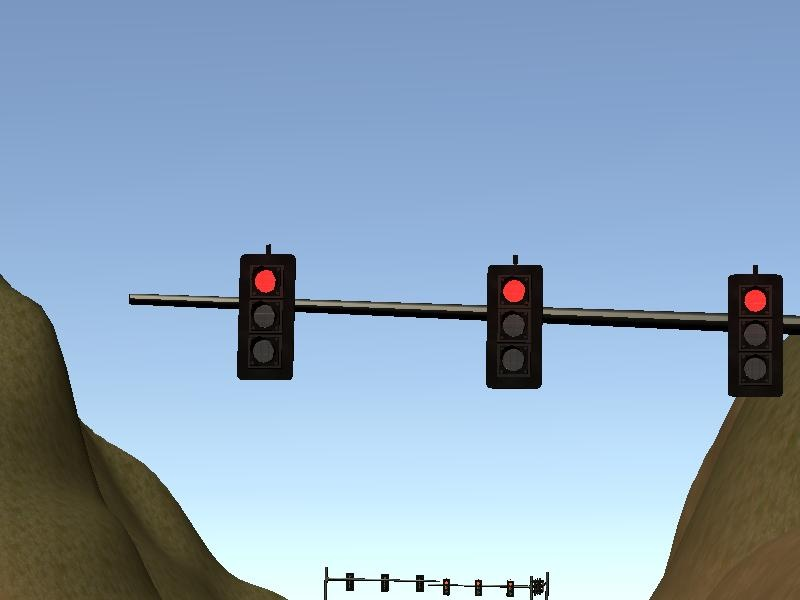RED: (236, 254, 296, 381), (726, 273, 783, 396), (484, 265, 541, 388)
